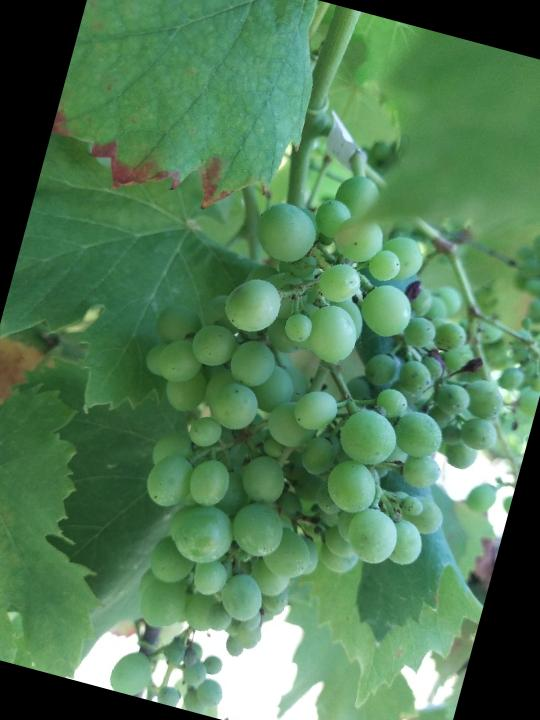grape: (75, 133, 540, 714)
